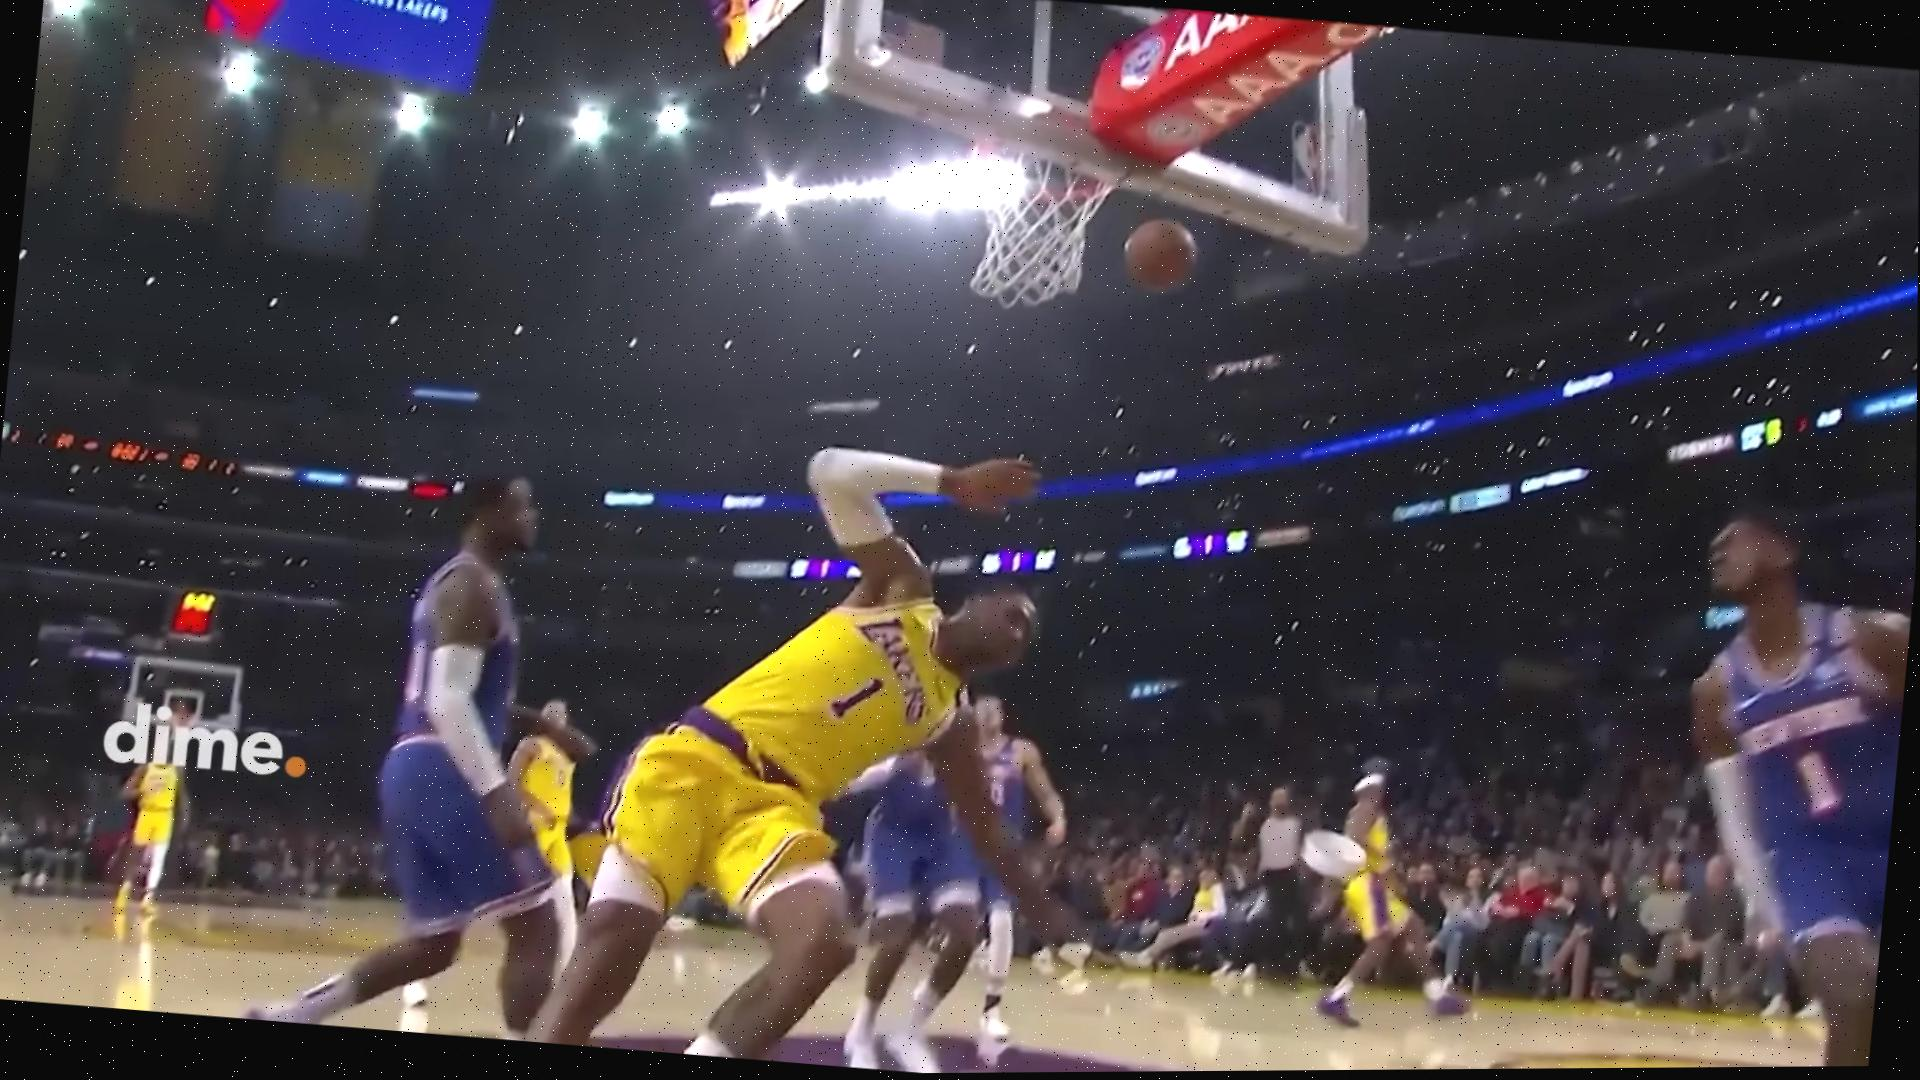no_foul: (516, 393, 1106, 1076)
